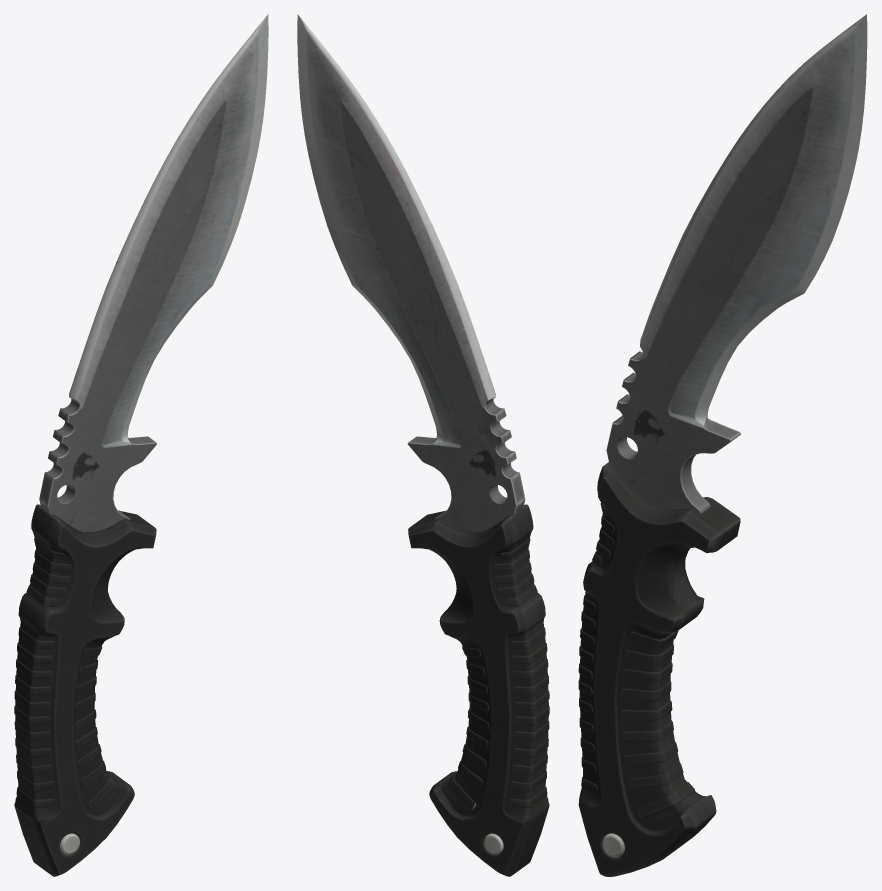
The model's file is weapon_knife_kukri.glb.
3 renders of one model, left to right at view 1: azimuth 30°, elevation 25°; view 2: azimuth 150°, elevation 25°; view 3: azimuth 330°, elevation 25°, orthographic. The views are drawn at different scales.
Parts seen in each view (by area): view 1: weapons/models/knife/knife_kukri/weapon_knife_kukri.vmdl_c.b; view 2: weapons/models/knife/knife_kukri/weapon_knife_kukri.vmdl_c.b; view 3: weapons/models/knife/knife_kukri/weapon_knife_kukri.vmdl_c.b.
Boxes of the visible parts, left/top/right/bottom form: weapons/models/knife/knife_kukri/weapon_knife_kukri.vmdl_c.b: left=14, top=14, right=268, bottom=876; weapons/models/knife/knife_kukri/weapon_knife_kukri.vmdl_c.b: left=297, top=14, right=549, bottom=876; weapons/models/knife/knife_kukri/weapon_knife_kukri.vmdl_c.b: left=578, top=14, right=867, bottom=876.
Size of the model in its own units: 5.17 by 16.08 by 1.02.
1 material, 1 textured.
